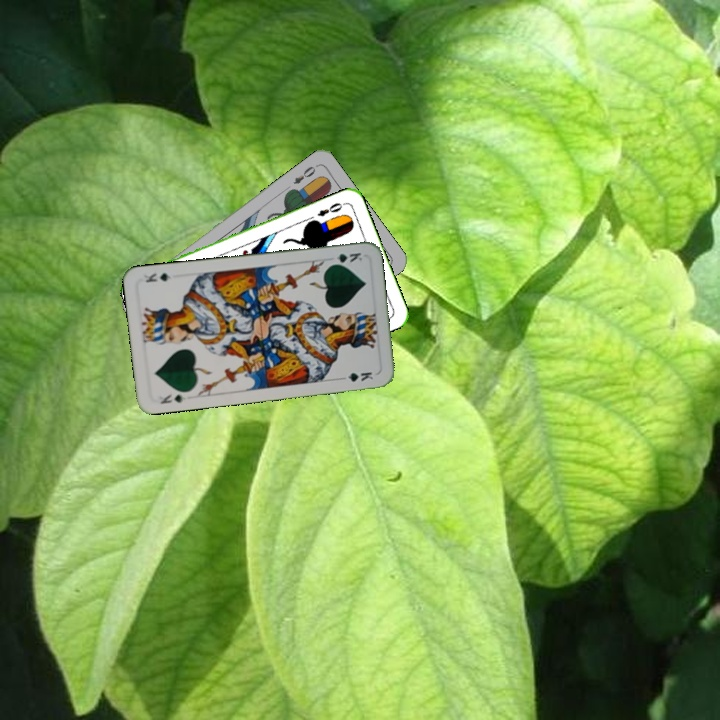EO: (289, 162, 318, 187), (313, 199, 348, 219)
GK: (325, 248, 365, 268), (157, 389, 188, 406)
